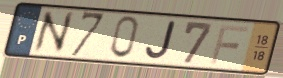0: (108, 14, 141, 61)
7: (68, 11, 108, 59), (182, 20, 215, 66)
F: (208, 23, 251, 66)
J: (143, 20, 178, 62)
N: (31, 9, 76, 55)
